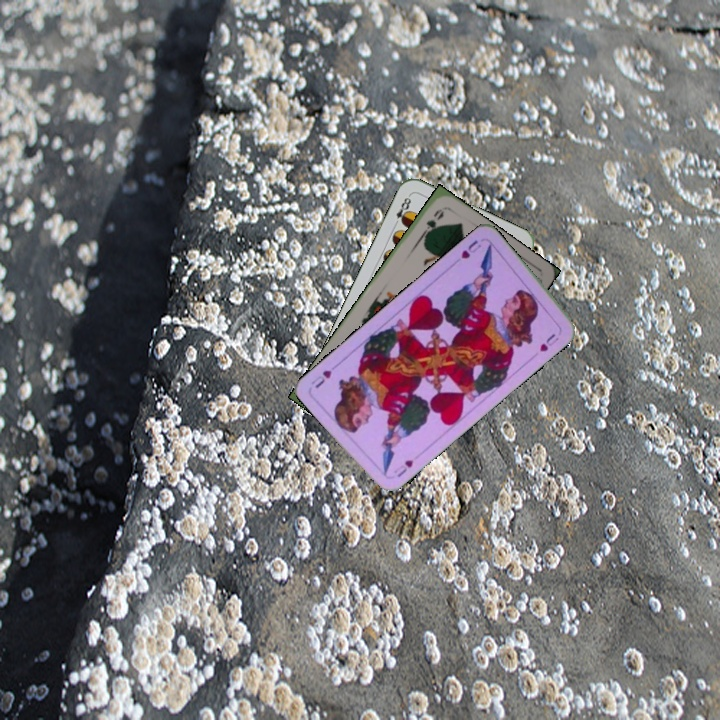E8: (390, 191, 414, 229)
GO: (416, 204, 447, 242)
HU: (457, 236, 484, 261), (393, 455, 416, 480)
